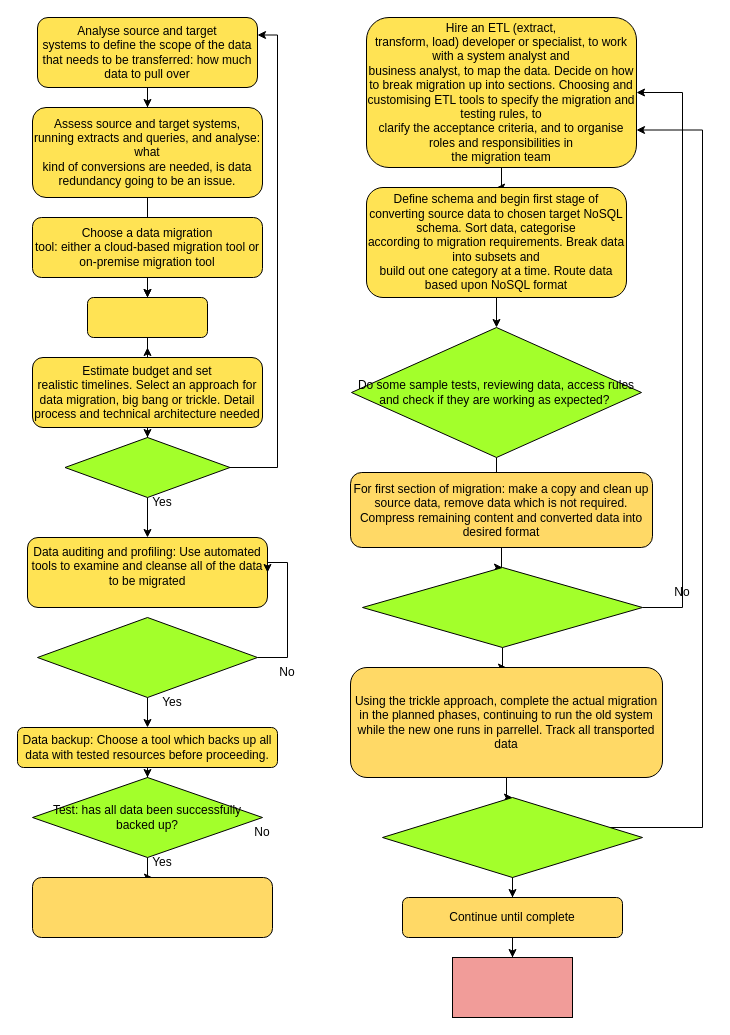
Image size: 730x1035. Some labels were removed from this diagram. Here are the shapes that lost their labels. From the top down, the centre of each, then its label:
At point 147,317: "Set data standards".
At point 147,467: "Is budget and timeline workable?".
At point 502,607: "Do mock migrations and test if they are successful?".
At point 147,657: "Test: is all data in best condition and free of data redundancies?".
At point 512,837: "Ongoing testing if migration is successful".
At point 512,987: "End".
